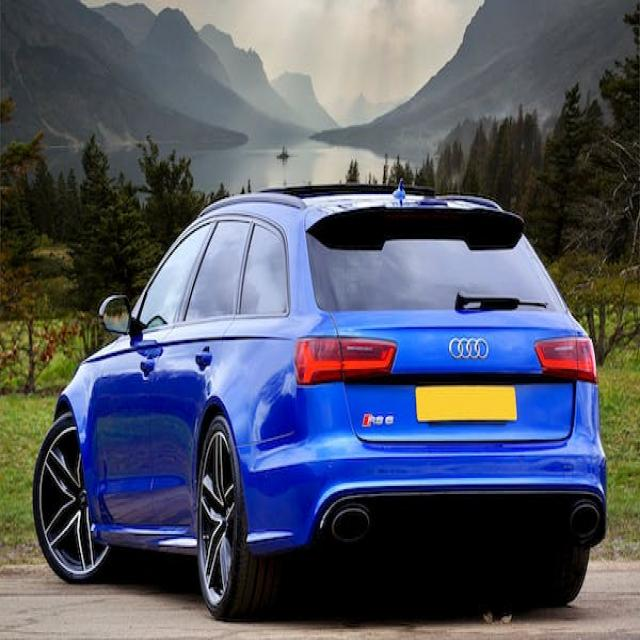yolov7-seg-car: (32, 178, 607, 620)
